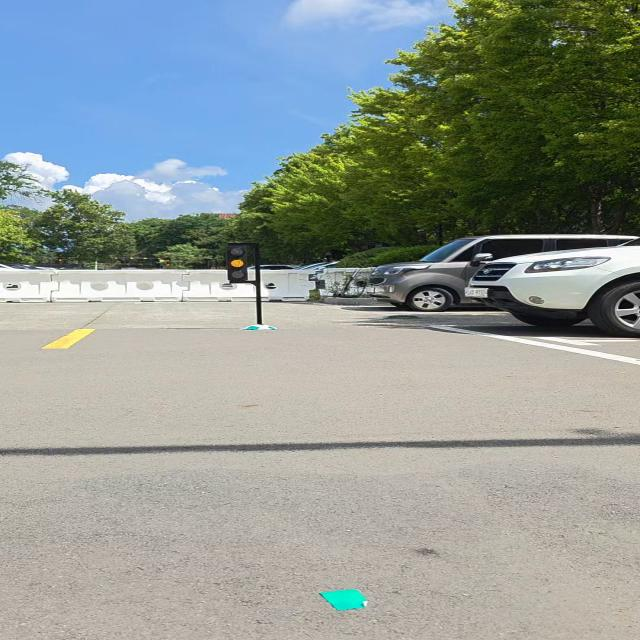yellow: (225, 245, 250, 282)
